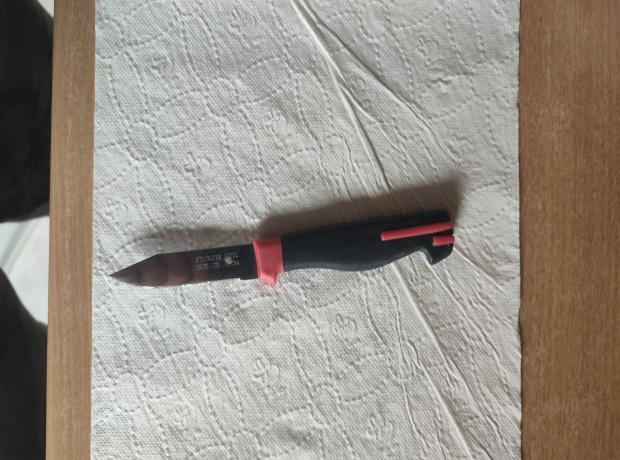metal: (107, 211, 454, 288)
